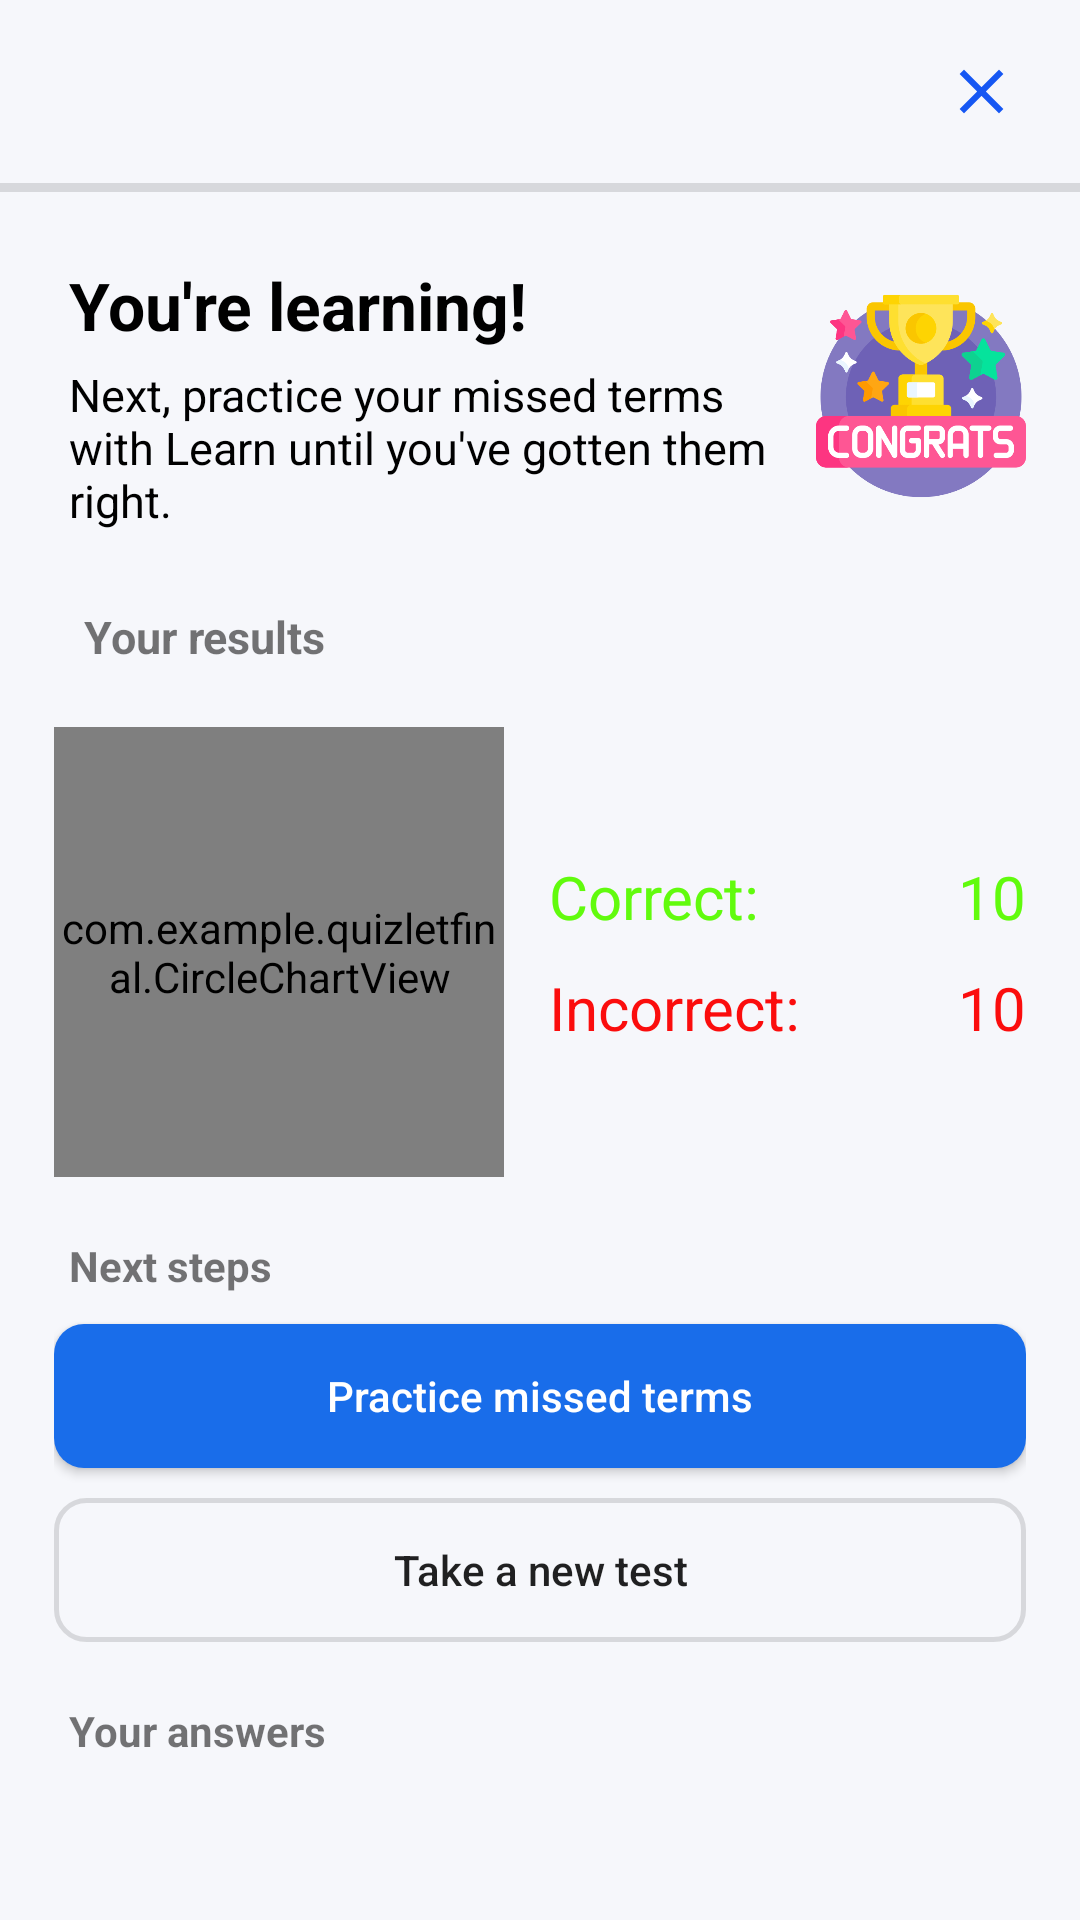

Locate icon controls on the screen. Image size 1080px x 1920px, boxes as bbox(x1, y1, x2, y2).
close: bbox(960, 70, 1003, 113)
